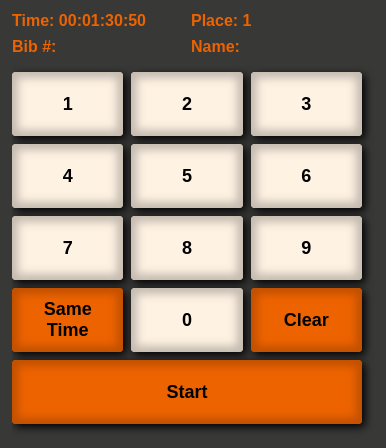
Timer Component › clicking # buttons builds bib # and fetches racer record
The width and height of the screenshot is (386, 448).
Click the button "1".
click(68, 104)  # box [12,72,123,136]
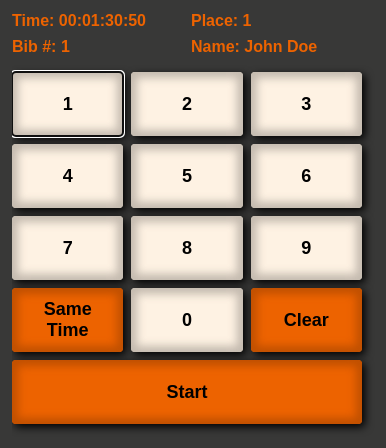
Click the button "2".
click(187, 104)  # box [131,72,243,136]
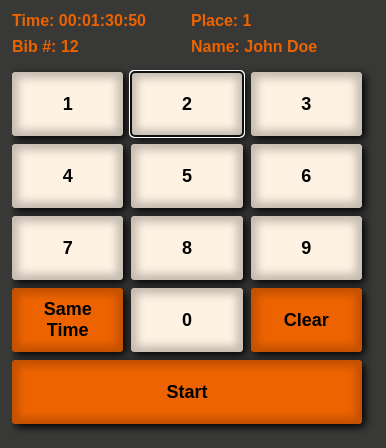
Expected: the heading "Bib #: 12" is shown, [12,38,79,55]
